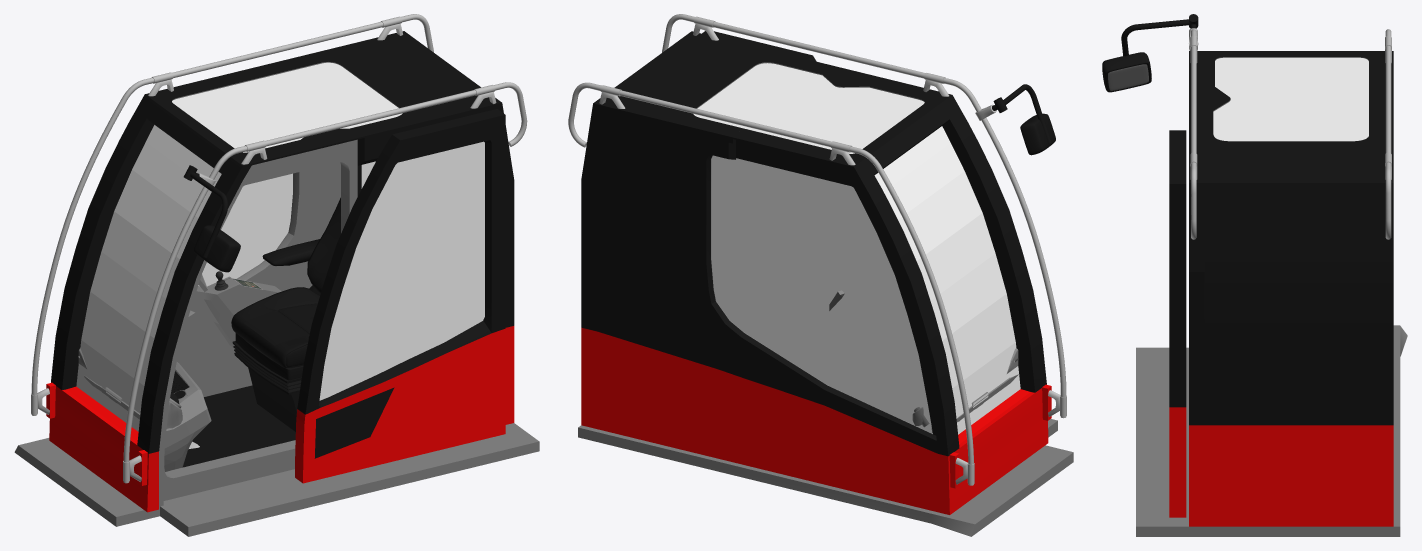
File: Cabin.fbx
The picture shows the model from 3 angles, left to right: view 1: azimuth 30°, elevation 25°; view 2: azimuth 150°, elevation 25°; view 3: azimuth 270°, elevation 25°; orthographic projection. The views are drawn at different scales.
Visible parts, largest first — view 1: cabin cabin, cabin glass, cabin door, cabin chair, cabin arm control; view 2: cabin cabin, cabin glass, cabin door; view 3: cabin cabin, cabin glass, cabin door.
Part boxes in pixels (bbox=[...]): cabin cabin: bbox=[14, 14, 539, 536]; cabin glass: bbox=[76, 62, 484, 431]; cabin door: bbox=[295, 109, 505, 483]; cabin chair: bbox=[231, 197, 340, 431]; cabin arm control: bbox=[190, 276, 281, 348]; cabin cabin: bbox=[568, 14, 1073, 536]; cabin glass: bbox=[693, 63, 1020, 434]; cabin door: bbox=[702, 31, 816, 61]; cabin cabin: bbox=[1102, 14, 1407, 536]; cabin glass: bbox=[1213, 57, 1368, 141]; cabin door: bbox=[1169, 130, 1186, 517].
Bounding box in the file's own units: 216 × 177 × 134.
